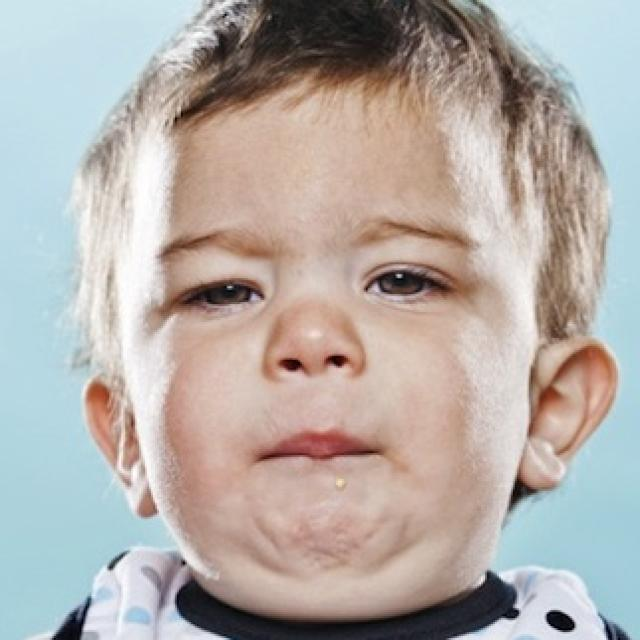Depress: (119, 83, 542, 614)
